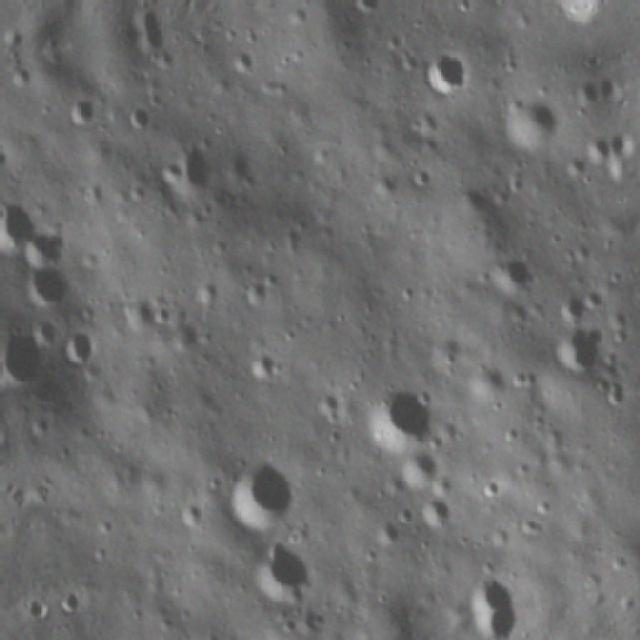crater: (224, 458, 307, 534), (0, 316, 58, 397), (366, 381, 434, 448), (165, 137, 222, 206), (248, 538, 310, 600), (18, 261, 90, 308), (501, 100, 559, 154), (415, 45, 463, 103), (13, 227, 76, 267), (57, 321, 103, 370), (242, 268, 283, 321), (0, 190, 37, 248), (489, 255, 536, 300), (396, 450, 446, 492), (235, 346, 282, 388), (408, 493, 450, 535), (52, 584, 90, 628), (470, 471, 504, 507), (123, 102, 159, 133), (340, 0, 385, 17), (67, 98, 93, 125)
